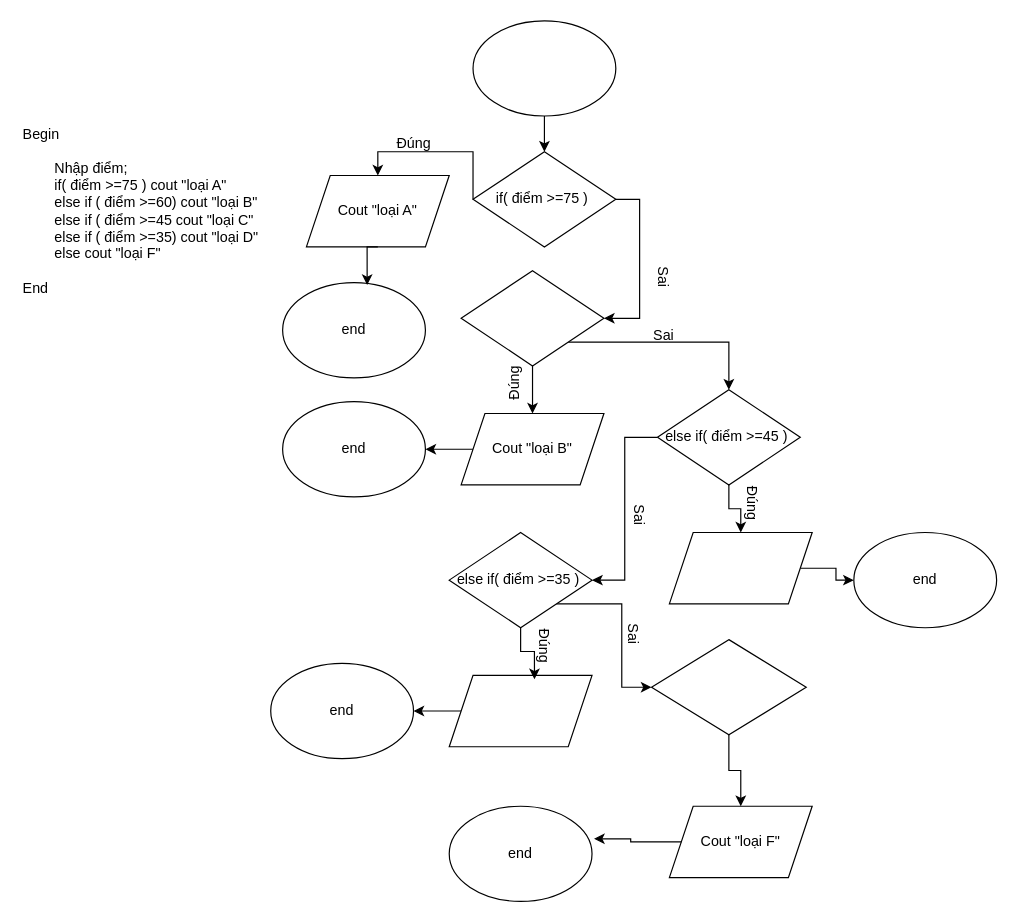
The diagram is 1017 pixels wide and 922 high, and some of its shapes have lost their labels. The box of each missing label's shape, as (x1, y1, x2, y2) in pixels:
Begin: (472, 20, 616, 116)
Cout "loại C": (668, 531, 812, 604)
Cout "loại D": (448, 674, 592, 747)
else if: (650, 638, 806, 735)
else if( điểm >=60 ): (460, 270, 604, 366)
